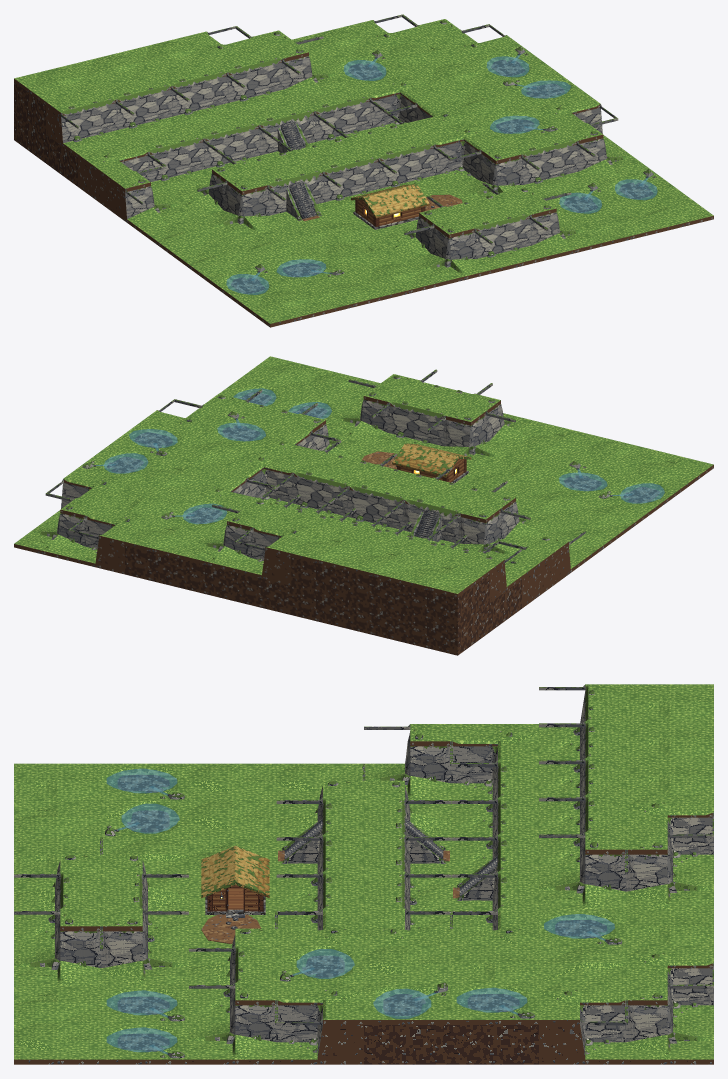
Rendered from planum.glb.
The picture shows the model from 3 angles, top to bottom: view 1: azimuth 30°, elevation 25°; view 2: azimuth 150°, elevation 25°; view 3: azimuth 270°, elevation 25°; orthographic projection. The views are drawn at different scales.
Parts seen in each view (by area): view 1: 62:terrain, 49:terrain, 50:terrain, 26:terrain, 18:terrain, 63:terrain, 65:terrain, 64:terrain, 36:terrain, 12:terrain, 46:terrain, 51:terrain (+80 smaller); view 2: 1:solid, 54:solid, 41:terrain, 102:terrain, 8:terrain, 58:terrain, 59:terrain, 104:terrain, 42:terrain, 103:terrain, 46:terrain, 32:terrain (+77 smaller); view 3: 8:terrain, 37:terrain, 31:terrain, 10:terrain, 43:terrain, 51:terrain, 58:terrain, 66:terrain, 53:terrain, 17:solid, 24:solid, 46:terrain (+105 smaller).
Boxes of the visible parts, x1,y1,x2,y2 form: 62:terrain: (46, 103, 132, 157); 49:terrain: (405, 228, 491, 286); 50:terrain: (475, 219, 547, 273); 26:terrain: (198, 184, 284, 239); 18:terrain: (110, 181, 196, 233); 63:terrain: (116, 89, 188, 140); 65:terrain: (227, 62, 299, 113); 64:terrain: (172, 76, 243, 126); 36:terrain: (522, 145, 593, 195); 12:terrain: (148, 142, 211, 193); 46:terrain: (238, 287, 325, 327); 51:terrain: (530, 212, 602, 259); 1:solid: (402, 603, 489, 655); 54:solid: (402, 574, 489, 626); 41:terrain: (439, 415, 514, 470); 102:terrain: (402, 557, 489, 597); 8:terrain: (14, 513, 86, 560); 58:terrain: (180, 525, 252, 572); 59:terrain: (125, 518, 211, 558); 104:terrain: (291, 530, 378, 570); 42:terrain: (373, 406, 444, 450); 103:terrain: (347, 543, 433, 583); 46:terrain: (627, 451, 713, 491); 32:terrain: (563, 498, 649, 537); 8:terrain: (626, 990, 713, 1064); 37:terrain: (189, 990, 276, 1064); 31:terrain: (276, 1005, 363, 1064); 10:terrain: (539, 1005, 626, 1064); 43:terrain: (101, 916, 188, 985); 51:terrain: (14, 916, 101, 985); 58:terrain: (626, 839, 713, 908); 66:terrain: (539, 839, 626, 908); 53:terrain: (14, 1022, 101, 1064); 17:solid: (451, 1025, 538, 1064); 24:solid: (364, 1025, 451, 1064); 46:terrain: (14, 763, 101, 800).
Bounding box in the file's own units: 64 × 8.96 × 64.
53 materials, 53 textured.
